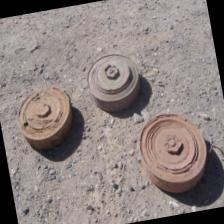TM-46: (125, 101, 224, 203), (10, 71, 86, 162), (74, 34, 150, 119)
